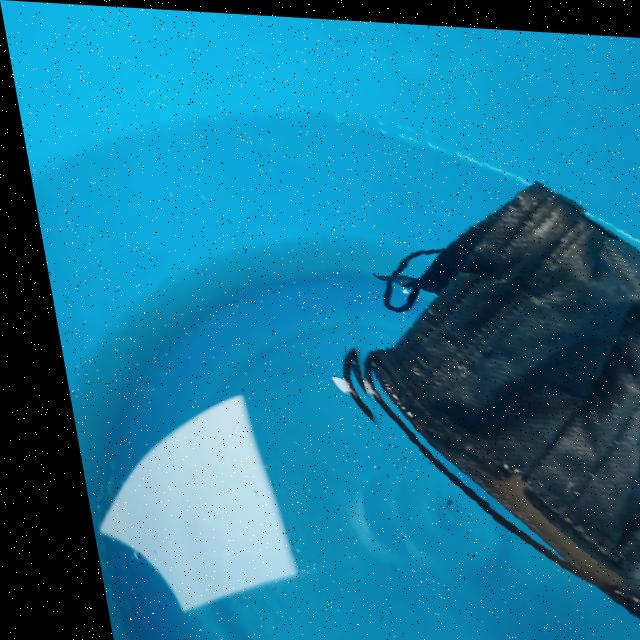litter: (290, 108, 640, 640)
